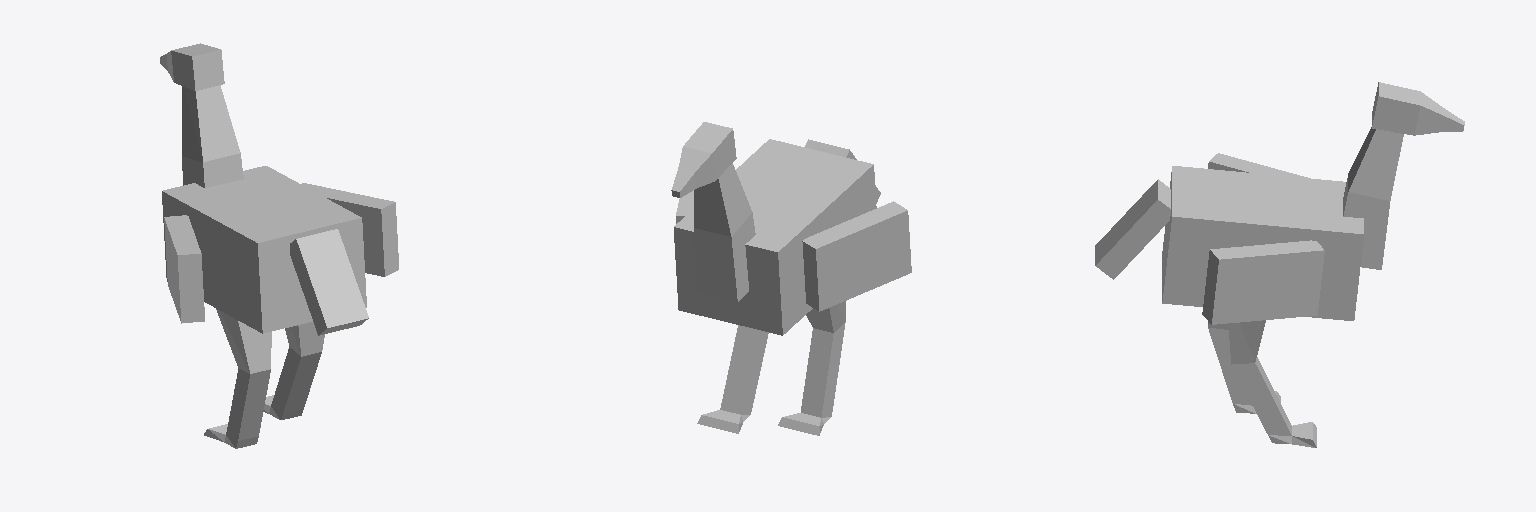
Rendered from Ostrich_000116.obj.
3 renders of one model, left to right at view 1: azimuth 30°, elevation 25°; view 2: azimuth 150°, elevation 25°; view 3: azimuth 270°, elevation 25°, orthographic.
Parts seen in each view (by area): view 1: Cube_Cube.001; view 2: Cube_Cube.001; view 3: Cube_Cube.001.
Part boxes in pixels (bbox=[...]): Cube_Cube.001: bbox=[160, 43, 398, 448]; Cube_Cube.001: bbox=[671, 122, 911, 435]; Cube_Cube.001: bbox=[1095, 82, 1464, 447].
Bounding box in the file's own units: 1.05 × 1.53 × 1.53.